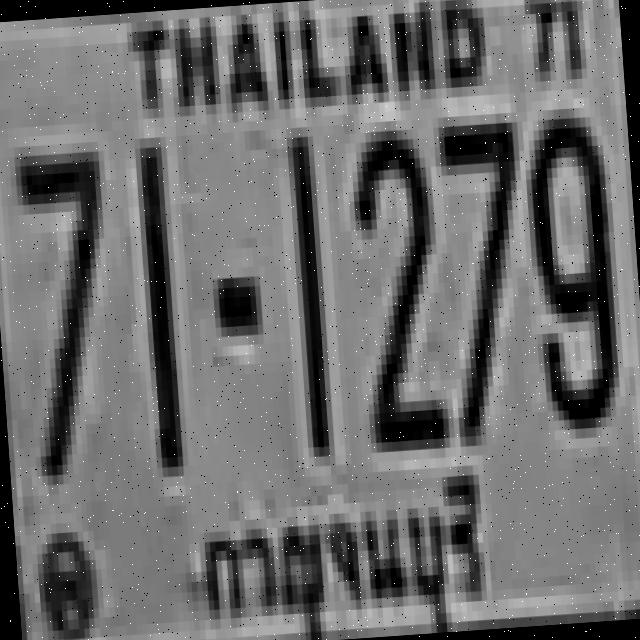1: (132, 137, 180, 468), (132, 142, 180, 473), (281, 132, 329, 452)
2: (346, 119, 442, 443)
7: (8, 142, 115, 476), (432, 112, 532, 437)
9: (521, 106, 616, 421)
Kanchanaburi: (179, 463, 499, 640)
